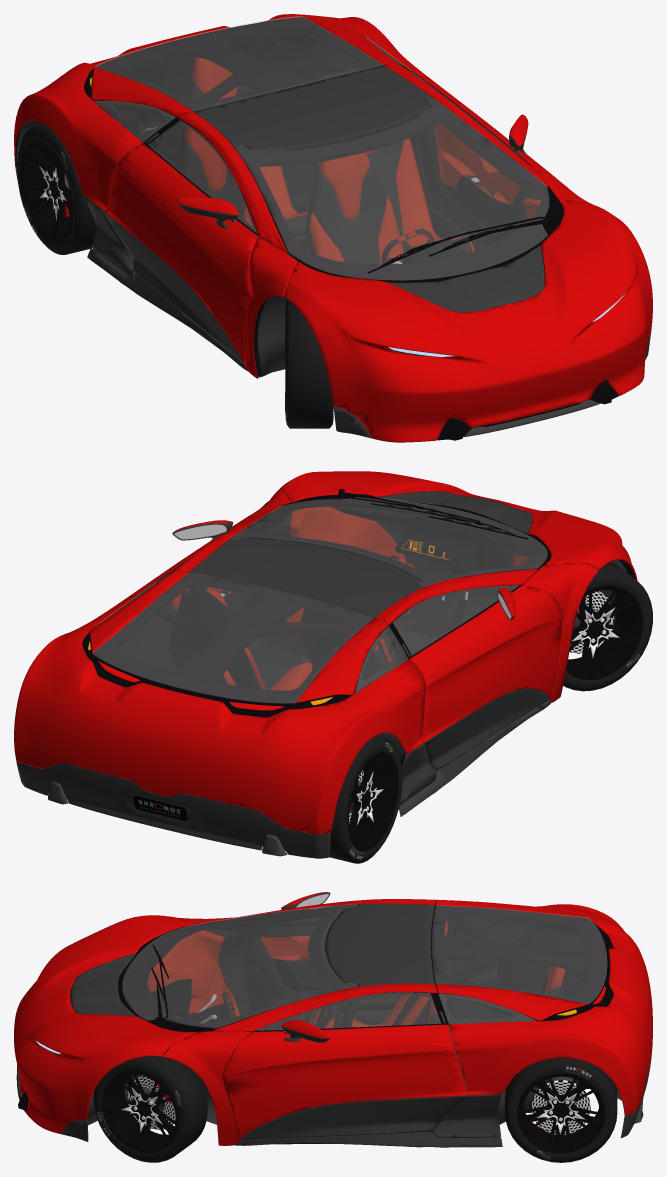
File: car.glb
The picture shows the model from 3 angles, top to bottom: view 1: azimuth 30°, elevation 25°; view 2: azimuth 150°, elevation 25°; view 3: azimuth 270°, elevation 25°; orthographic projection. The views are drawn at different scales.
Visible parts, largest first — view 1: BodyHood, BodyWindshield, BodyRearwindow, BodyDoorRColor1, BodyRearPanelsColor1, BodyRoofPanel, BodyWindshieldGasket, InteriorSeatsColor1, InteriorSeatsColor2, BodyPillars, InteriorPillar, InteriorRearHatch (+21 smaller); view 2: BodyRearPanelsColor1, BodyRearwindow, BodyWindshield, BodyDoorRColor1, BodyPanelsColor2, BodyRoofPanel, BodyHood, InteriorRearHatch, BodyPillars, InteriorPillar, BodyWindshieldGasket, InteriorDashMid (+22 smaller); view 3: BodyRearPanelsColor1, BodyWindshield, BodyDoorLColor1, BodyHood, BodyRearwindow, BodyRoofPanel, BodyPillars, BodyWindshieldGasket, BodyDoorLColor2, BodyPanelsColor2, WheelFrontL, InteriorRearHatch (+25 smaller).
Part boxes in pixels (x1,y1,x2,y2): BodyHood: (283, 198, 652, 442); BodyWindshield: (234, 98, 549, 280); BodyRearwindow: (95, 16, 382, 110); BodyDoorRColor1: (104, 143, 257, 363); BodyRearPanelsColor1: (14, 14, 428, 210); BodyRoofPanel: (193, 65, 432, 150); BodyWindshieldGasket: (234, 99, 563, 282); InteriorSeatsColor1: (185, 57, 475, 264); InteriorSeatsColor2: (180, 78, 472, 264); BodyPillars: (176, 61, 598, 378); InteriorPillar: (158, 37, 434, 168); InteriorRearHatch: (93, 17, 383, 117); BodyRearPanelsColor1: (14, 569, 425, 834); BodyRearwindow: (92, 573, 373, 703); BodyWindshield: (229, 497, 547, 587); BodyDoorRColor1: (409, 585, 562, 742); BodyPanelsColor2: (16, 700, 550, 858); BodyRoofPanel: (189, 537, 422, 617); BodyHood: (279, 471, 637, 580); InteriorRearHatch: (93, 573, 386, 707); BodyPillars: (175, 489, 599, 702); InteriorPillar: (174, 574, 417, 682); BodyWindshieldGasket: (230, 497, 550, 587); InteriorDashMid: (331, 503, 528, 622); BodyRearPanelsColor1: (436, 899, 652, 1115); BodyWindshield: (122, 904, 357, 1028); BodyDoorLColor1: (222, 1024, 467, 1139); BodyHood: (14, 915, 196, 1133); BodyRearwindow: (432, 905, 606, 1003); BodyRoofPanel: (326, 903, 434, 986); BodyPillars: (163, 899, 437, 1145); BodyWindshieldGasket: (118, 905, 357, 1032); BodyDoorLColor2: (240, 1096, 467, 1140); BodyPanelsColor2: (16, 1045, 652, 1147); WheelFrontL: (93, 1054, 207, 1162); InteriorRearHatch: (431, 905, 606, 1020).
Size of the model in its own units: 2.54 by 1.15 by 4.36.
23 materials, 6 textured.
